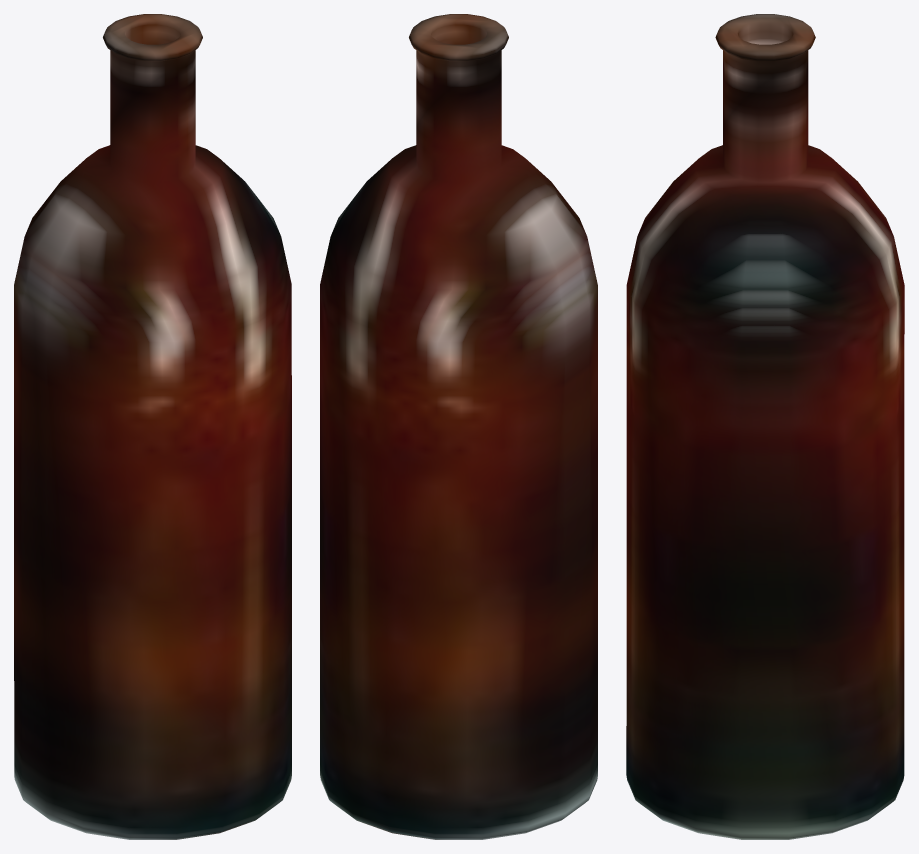
File: bottle.glb
3 renders of one model, left to right at view 1: azimuth 30°, elevation 25°; view 2: azimuth 150°, elevation 25°; view 3: azimuth 270°, elevation 25°, orthographic.
Visible parts, largest first — view 1: bottle.ms3d.mo; view 2: bottle.ms3d.mo; view 3: bottle.ms3d.mo.
Part boxes in pixels (<box>): bottle.ms3d.mo: <box>14,14,291,839</box>; bottle.ms3d.mo: <box>320,14,597,839</box>; bottle.ms3d.mo: <box>626,14,904,839</box>.
Bounding box in the file's own units: 0.839 × 2.55 × 0.8528.
Materials: 1 (1 with a texture image).
